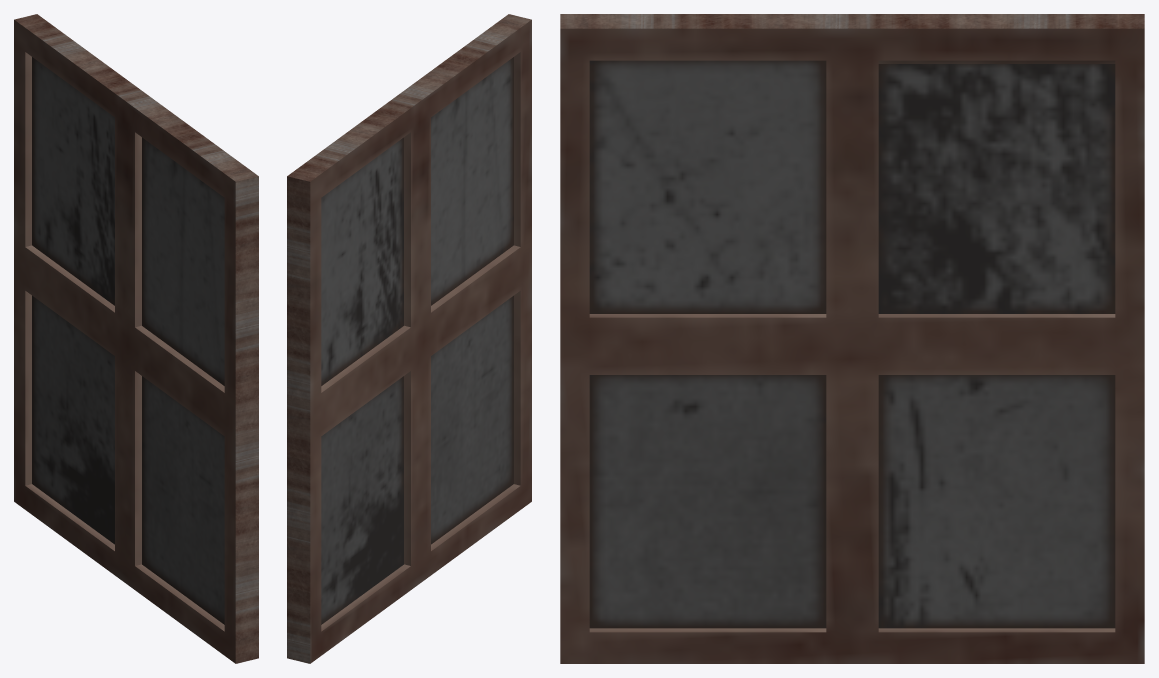
File: Window.fbx
3 views of the same model, side by side, from view 1: azimuth 30°, elevation 25°; view 2: azimuth 150°, elevation 25°; view 3: azimuth 270°, elevation 25° (orthographic). The views are drawn at different scales.
Parts seen in each view (by area): view 1: polySurface14, polySurface5; view 2: polySurface14, polySurface5; view 3: polySurface14, polySurface5.
Part boxes in pixels (x1,y1,x2,y2): polySurface14: (32, 57, 224, 624); polySurface5: (14, 14, 258, 663); polySurface14: (321, 57, 513, 624); polySurface5: (287, 14, 531, 663); polySurface14: (589, 60, 1115, 628); polySurface5: (560, 14, 1144, 663).
Bounding box in the file's own units: 4.13 × 82.54 × 68.79.
Materials: 1 (1 with a texture image).
